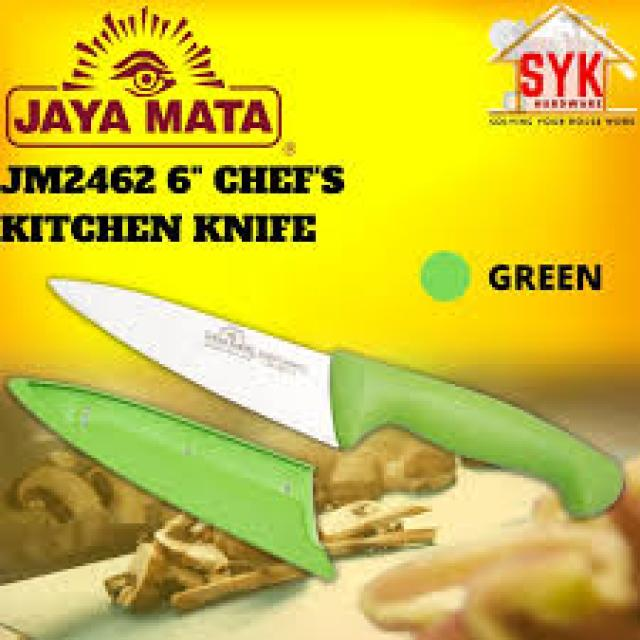Knife: (48, 276, 620, 515)
